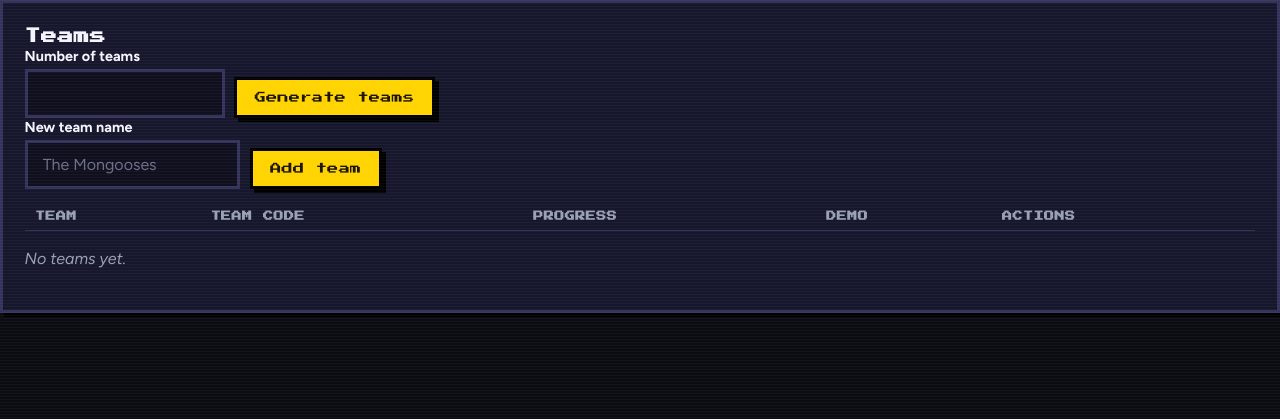
it: TeamsPanel › generates teams from a count
This screenshot has width=1280, height=419.
Type "3" into the number field labelled "Number of teams".
click(125, 94); type("3")  # box [25,69,225,118]
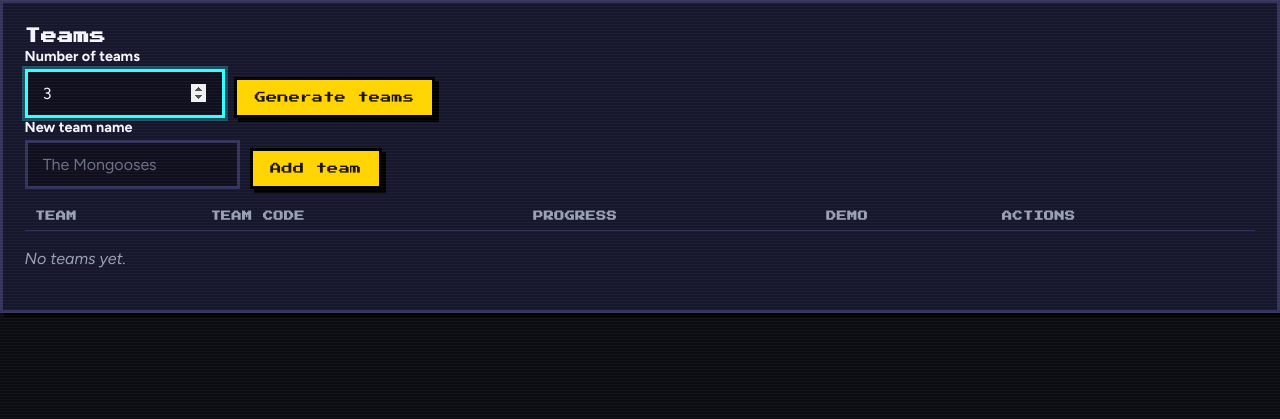
Click the button "Generate teams".
click(335, 98)  # box [234,77,435,118]
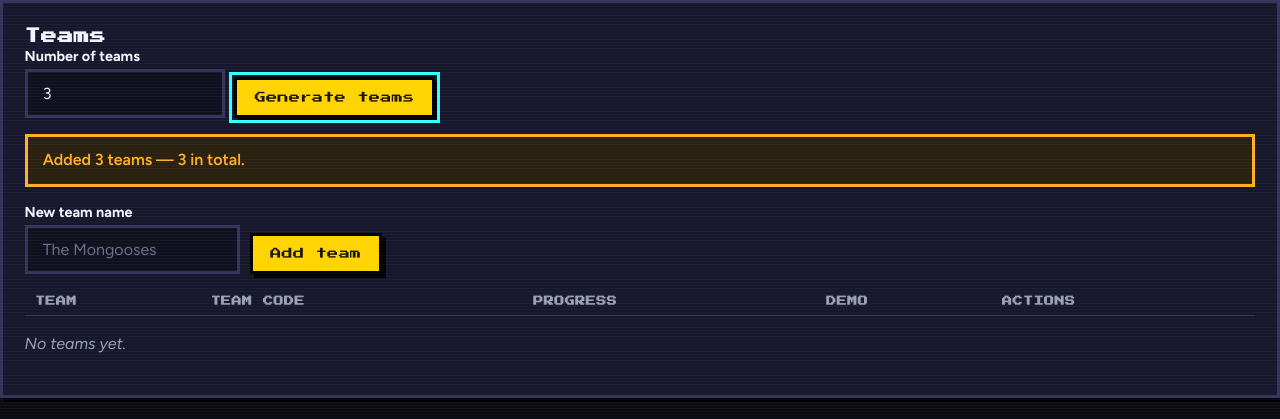
Expected: the text "Added 3 teams — 3 in total." is shown, [25,134,1255,187]
